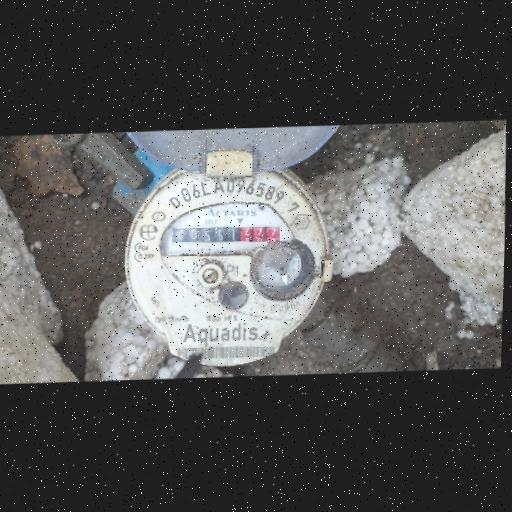0: (174, 228, 187, 243), (188, 227, 199, 243)
1: (227, 227, 238, 243)
2: (240, 228, 253, 243)
5: (214, 228, 225, 243), (201, 227, 212, 241)
9: (265, 227, 280, 245), (253, 227, 266, 243)
border_water_meter_number: (170, 216, 283, 250)
